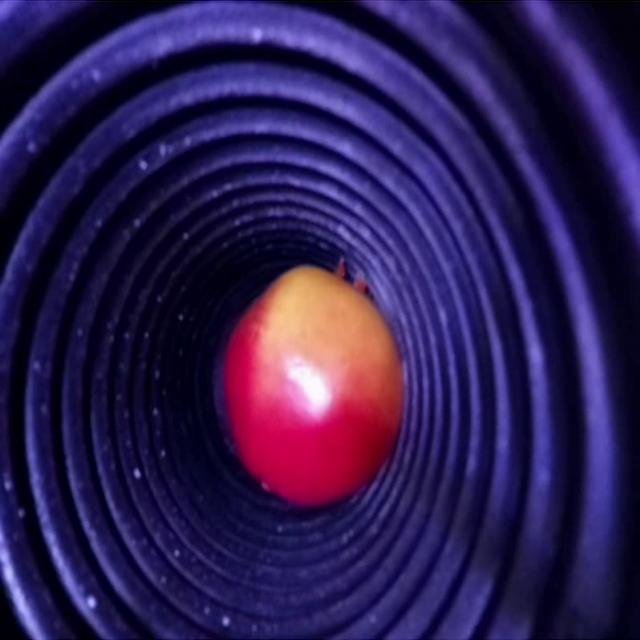obstacles: (221, 267, 407, 511)
